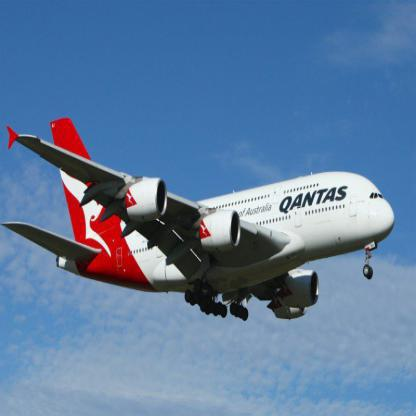CIV_Plane: (2, 108, 398, 344)
